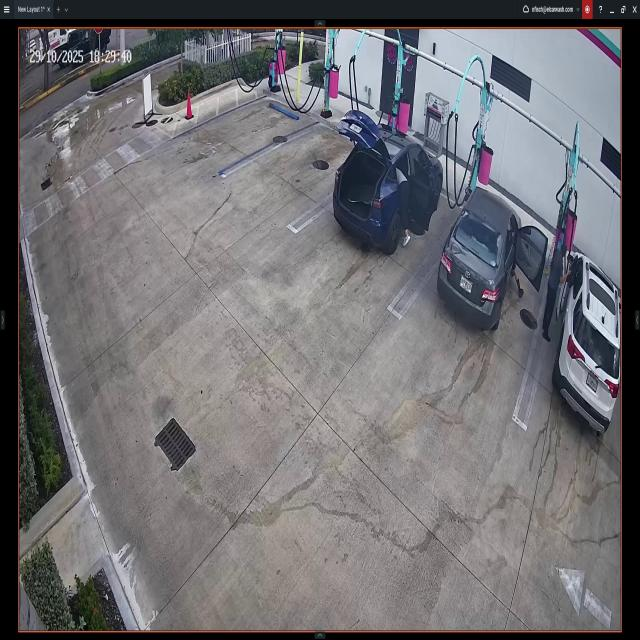Car: (335, 113, 442, 252), (439, 184, 542, 321), (554, 253, 620, 432)
